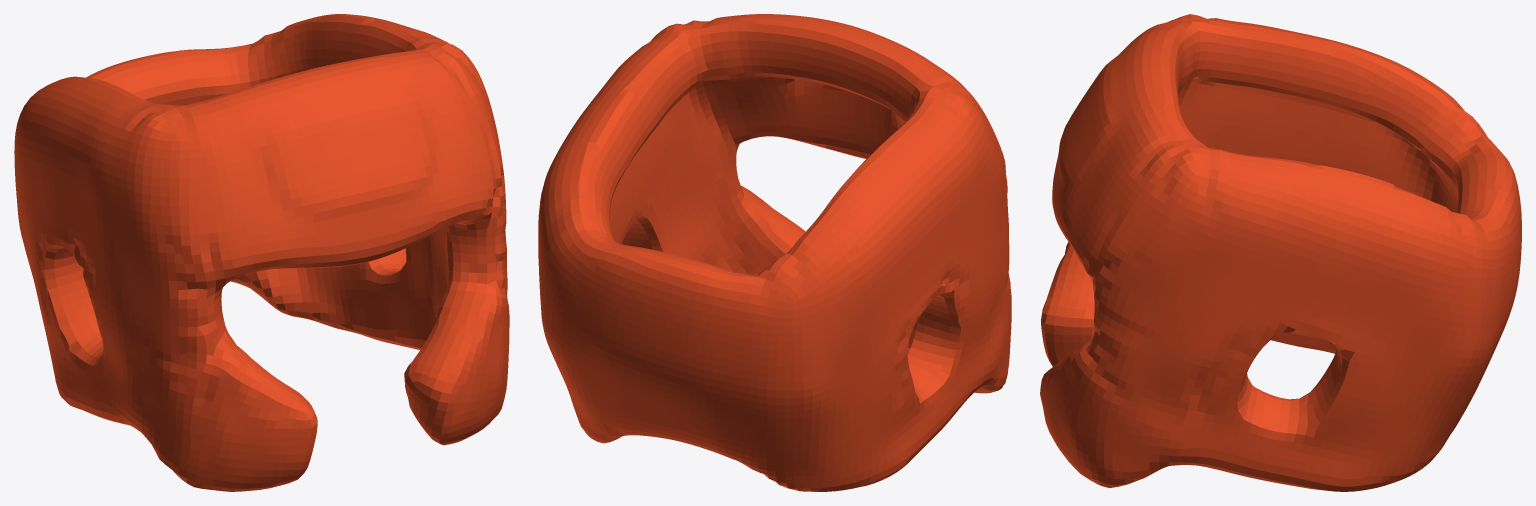
Rendered from Boxer_helmet_2.glb.
The picture shows the model from 3 angles, left to right: view 1: azimuth 30°, elevation 25°; view 2: azimuth 150°, elevation 25°; view 3: azimuth 270°, elevation 25°; orthographic projection. The views are drawn at different scales.
Visible parts, largest first — view 1: casco.003; view 2: casco.003; view 3: casco.003.
Part boxes in pixels (box(x1,y1,x2,y2)): casco.003: box(14, 14, 509, 491); casco.003: box(538, 14, 1011, 491); casco.003: box(1040, 14, 1521, 491).
Size of the model in its own units: 0.2203 by 0.207 by 0.2527.
